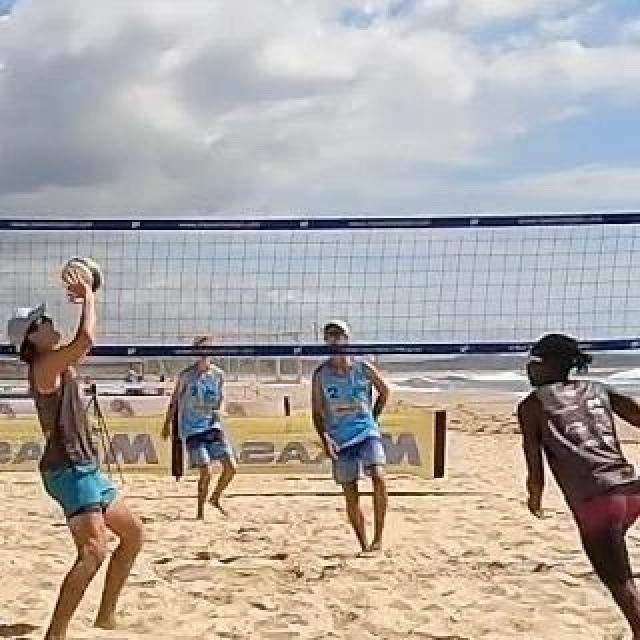volleyball: (61, 257, 103, 297)
